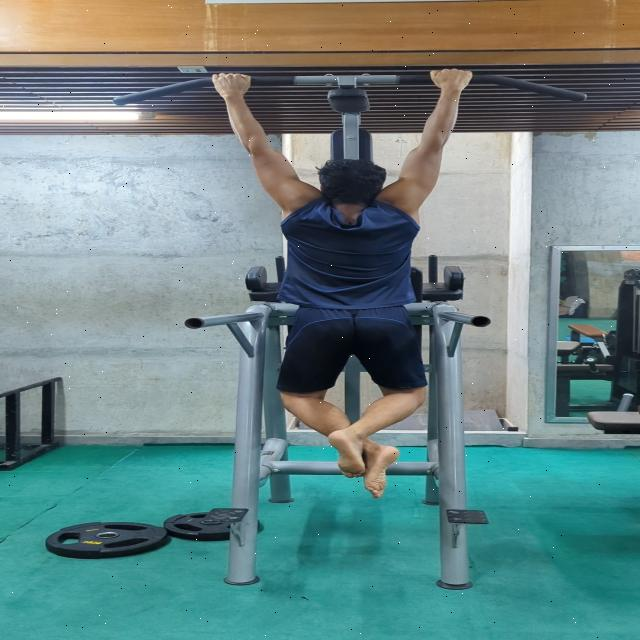Normal_PullUps: (202, 68, 503, 500)
